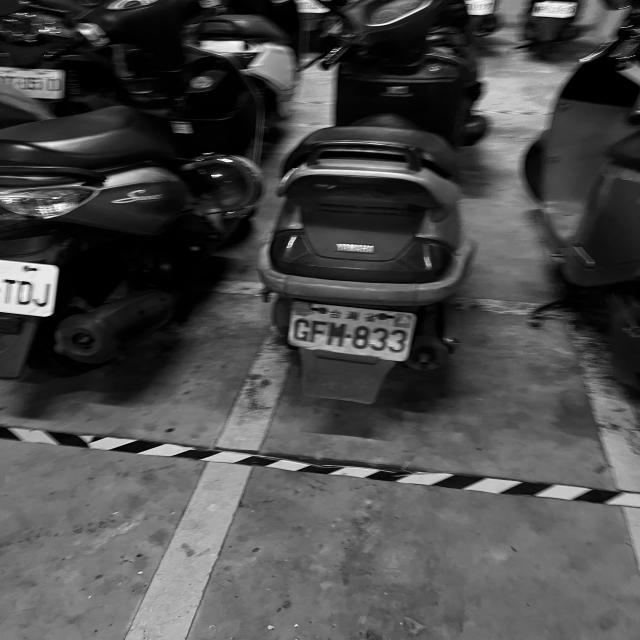-: (346, 332, 352, 340)
3: (370, 326, 388, 351), (391, 327, 406, 353)
8: (353, 325, 370, 349)
D: (17, 278, 34, 305)
F: (308, 318, 327, 344)
G: (294, 318, 309, 341)
J: (33, 281, 53, 308)
M: (328, 320, 346, 348)
T: (2, 278, 17, 304)
plate: (284, 305, 419, 363)
